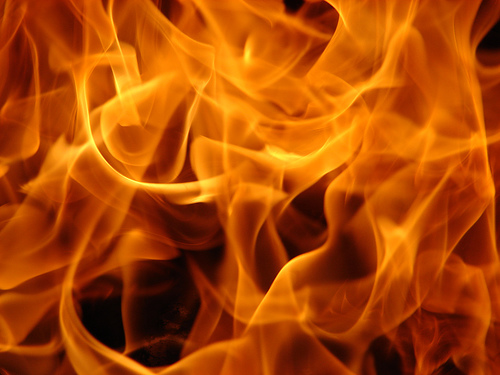fire: (10, 6, 491, 375)
